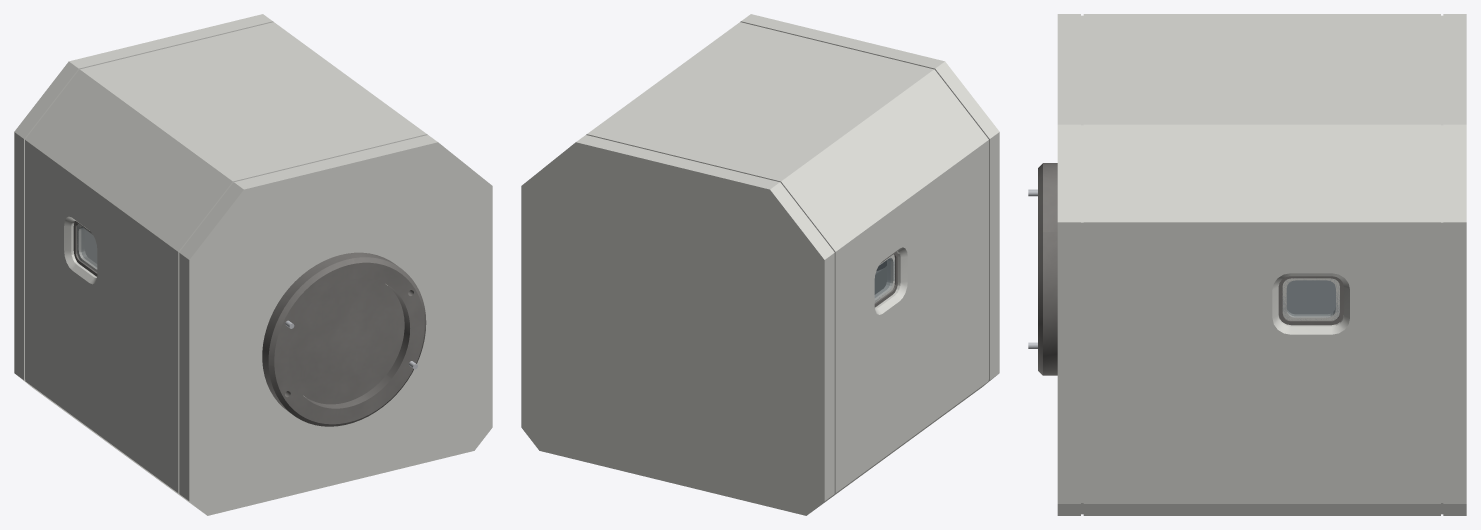
File: ax_rover_04_rear_cabin_m.glb
3 renders of one model, left to right at view 1: azimuth 30°, elevation 25°; view 2: azimuth 150°, elevation 25°; view 3: azimuth 270°, elevation 25°, orthographic. The views are drawn at different scales.
Parts seen in each view (by area): view 1: hub_shell, hatch_door_1, hub_ring_front, roof_radiator_panels, window_glass; view 2: hub_shell, roof_radiator_panels, window_glass; view 3: hub_shell, roof_radiator_panels, hub_ring_front, window_glass, window_frames.
Boxes of the visible parts, x1=… form: hub_shell: x1=14, y1=14, x2=492, y2=515; hatch_door_1: x1=289, y1=278, x2=404, y2=404; hub_ring_front: x1=262, y1=252, x2=426, y2=426; roof_radiator_panels: x1=126, y1=35, x2=271, y2=124; window_glass: x1=77, y1=225, x2=97, y2=268; hub_shell: x1=521, y1=14, x2=999, y2=515; roof_radiator_panels: x1=655, y1=35, x2=887, y2=164; window_glass: x1=874, y1=258, x2=894, y2=301; hub_shell: x1=1057, y1=14, x2=1466, y2=515; roof_radiator_panels: x1=1091, y1=38, x2=1433, y2=99; hub_ring_front: x1=1038, y1=163, x2=1057, y2=375; window_glass: x1=1283, y1=280, x2=1339, y2=319; window_frames: x1=1278, y1=276, x2=1343, y2=325.
Bounding box in the file's own units: 2.5 × 2.56 × 2.68.
Materials: 4 (2 with a texture image).
